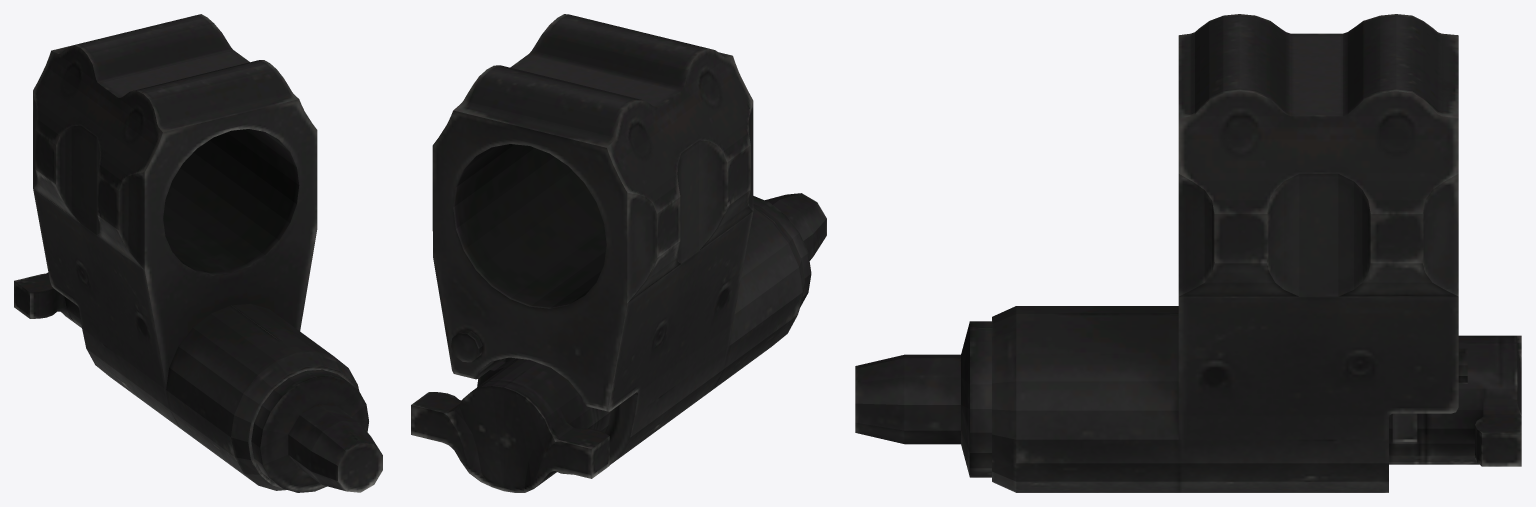
The picture shows the model from 3 angles, left to right: view 1: azimuth 30°, elevation 25°; view 2: azimuth 150°, elevation 25°; view 3: azimuth 270°, elevation 25°; orthographic projection. The views are drawn at different scales.
Visible parts, largest first — view 1: TW_5fbc210bf24b94483f726481_PZ_Import; view 2: TW_5fbc210bf24b94483f726481_PZ_Import; view 3: TW_5fbc210bf24b94483f726481_PZ_Import.
Boxes of the visible parts, x1=… form: TW_5fbc210bf24b94483f726481_PZ_Import: x1=14, y1=14, x2=382, y2=492; TW_5fbc210bf24b94483f726481_PZ_Import: x1=411, y1=14, x2=826, y2=492; TW_5fbc210bf24b94483f726481_PZ_Import: x1=855, y1=14, x2=1521, y2=492.
Bounding box in the file's own units: 0.0153 × 0.0359 × 0.0257.
Materials: 1 (1 with a texture image).
